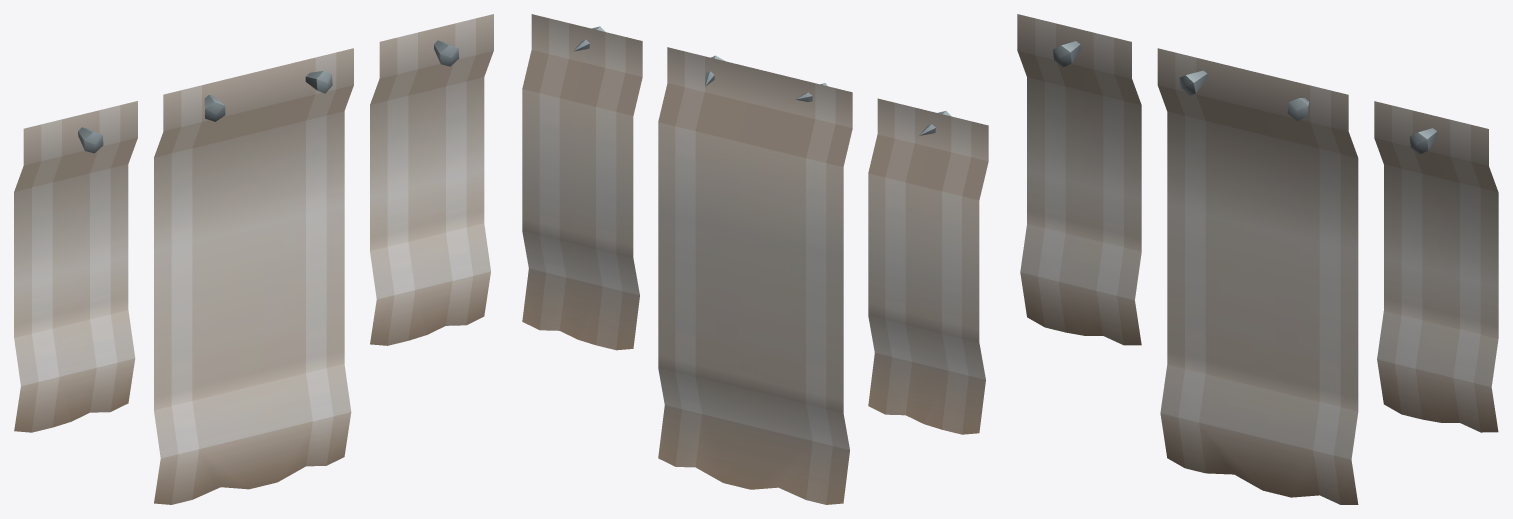
The model's file is banner_triple_white.glb.
3 renders of one model, left to right at view 1: azimuth 30°, elevation 25°; view 2: azimuth 150°, elevation 25°; view 3: azimuth 330°, elevation 25°, orthographic. The views are drawn at different scales.
Visible parts, largest first — view 1: banner_triple_white; view 2: banner_triple_white; view 3: banner_triple_white.
Part boxes in pixels (box(x1,y1,x2,y2)): banner_triple_white: box(14, 14, 493, 504); banner_triple_white: box(522, 14, 988, 504); banner_triple_white: box(1017, 14, 1498, 504).
Size of the model in its own units: 3.7 by 3.2 by 0.3622.
1 material, 1 textured.
